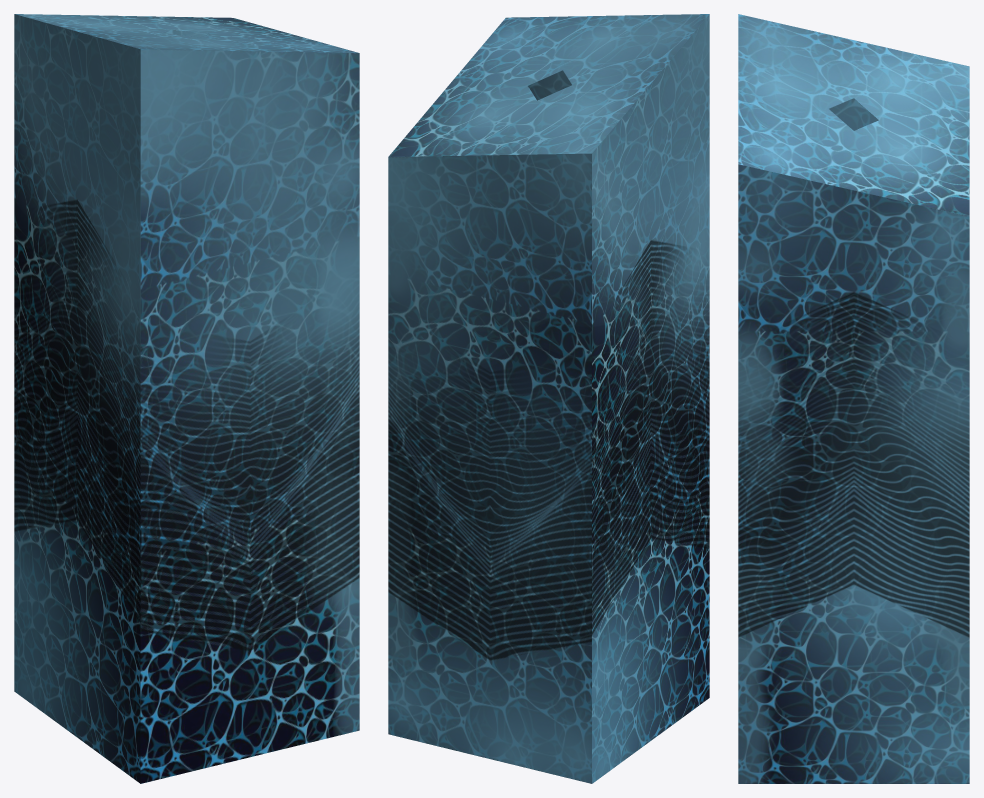
The model's file is STENKI.glb.
The picture shows the model from 3 angles, left to right: view 1: azimuth 30°, elevation 25°; view 2: azimuth 150°, elevation 25°; view 3: azimuth 270°, elevation 25°; orthographic projection. The views are drawn at different scales.
Parts seen in each view (by area): view 1: Mesh410; view 2: Mesh410; view 3: Mesh410.
Boxes of the visible parts, bbox=[...] form: Mesh410: bbox=[14, 14, 359, 783]; Mesh410: bbox=[388, 14, 709, 783]; Mesh410: bbox=[738, 14, 969, 783].
Size of the model in its own units: 20000 by 64084 by 20000.
Materials: 1 (1 with a texture image).
